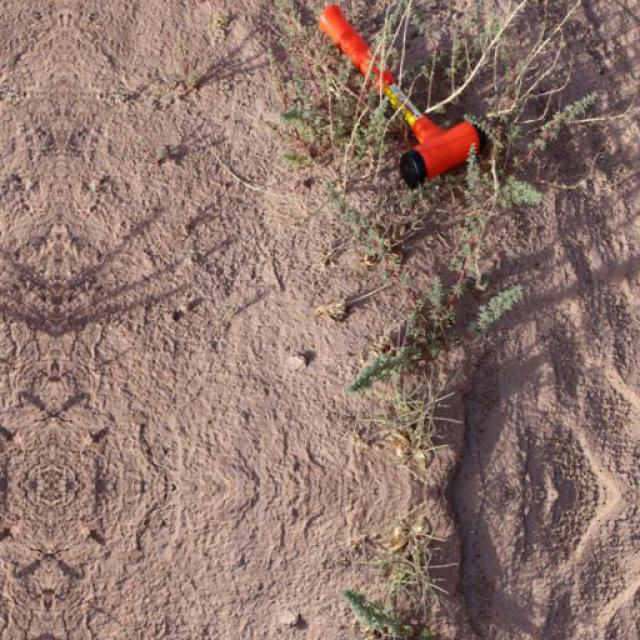mallet: (318, 1, 488, 189)
